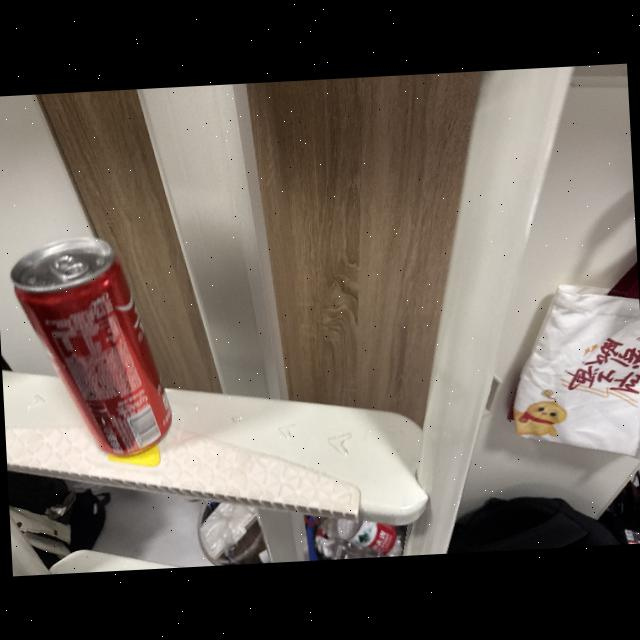Cola: (3, 226, 181, 467)
